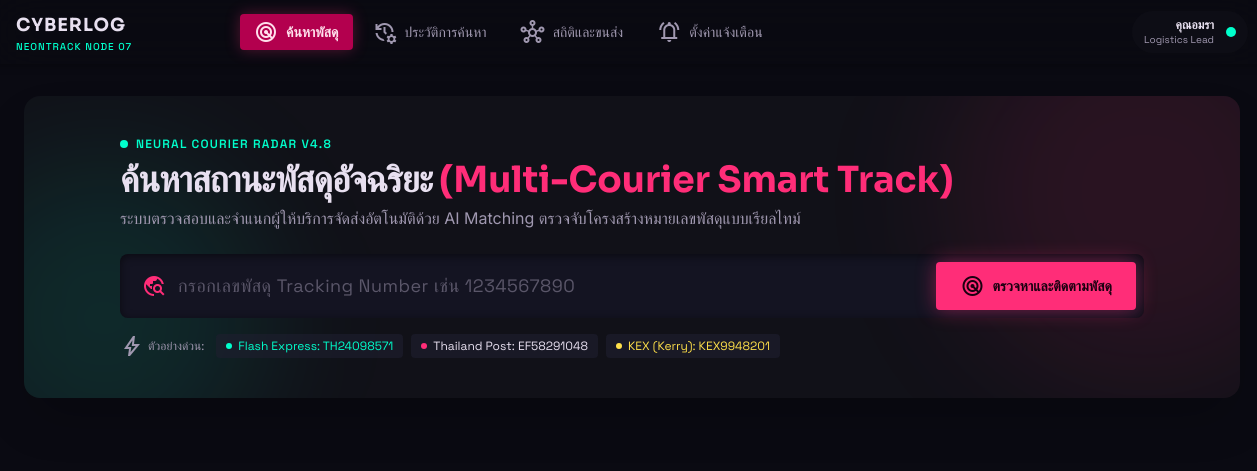
Test: Flow 1: search with tracking code › shows API error message on 400/500
The width and height of the screenshot is (1257, 471).
Type "1234567890" into the field named "Tracking code". click: (548, 286)
box: [178,272,918,300]
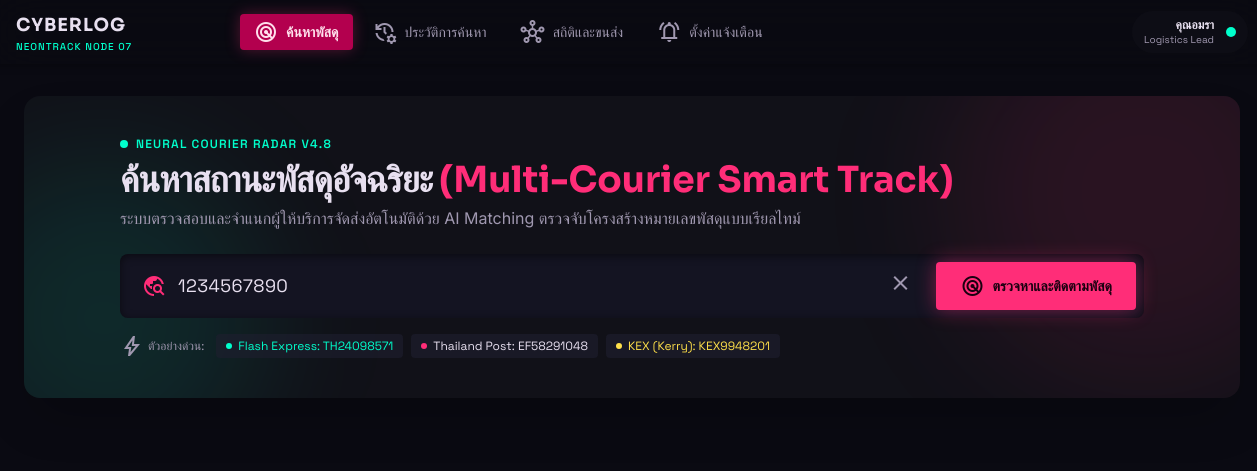
Click the button "ตรวจหาและติดตามพัสดุ". click: click(1036, 286)
box: [936,262,1136,310]
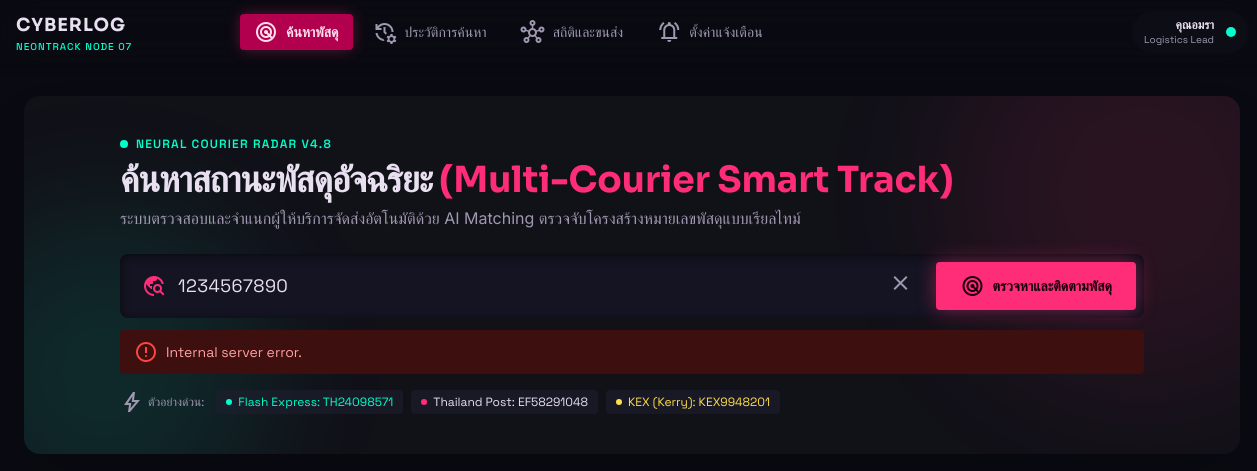
Expected: the message reads "Internal server error.", [166,343,302,361]
